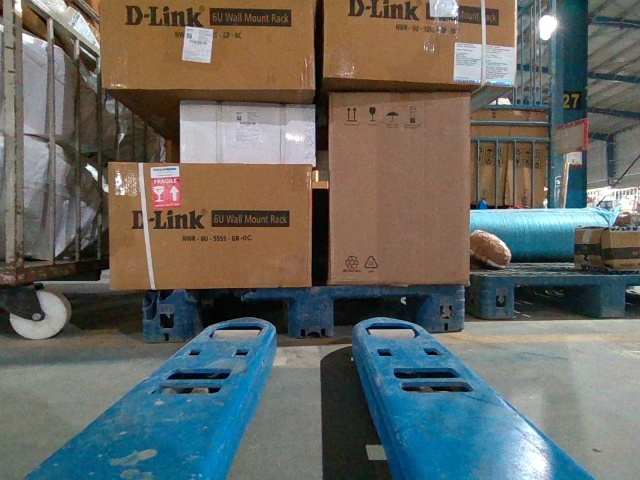block: (287, 283, 337, 341), (144, 286, 192, 342), (420, 286, 467, 332), (593, 277, 630, 321), (480, 275, 515, 320)
front: (147, 284, 464, 340)
hole pallet: (332, 296, 425, 341), (190, 297, 293, 336), (512, 284, 593, 318)
